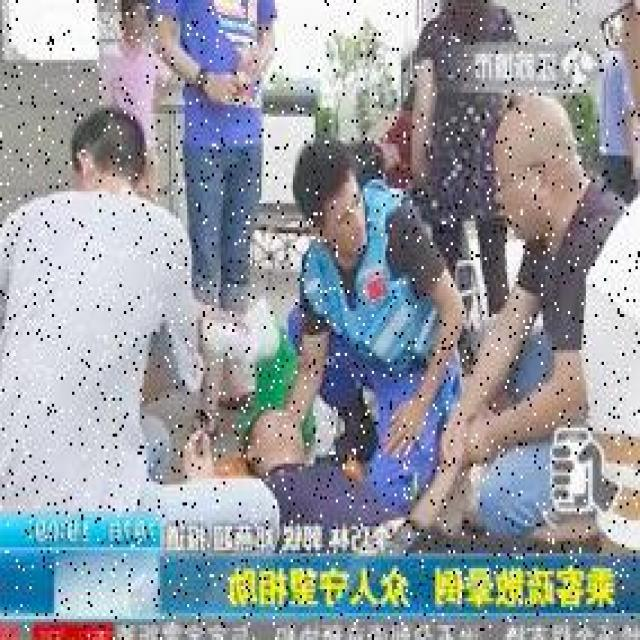fall: (194, 403, 451, 548)
